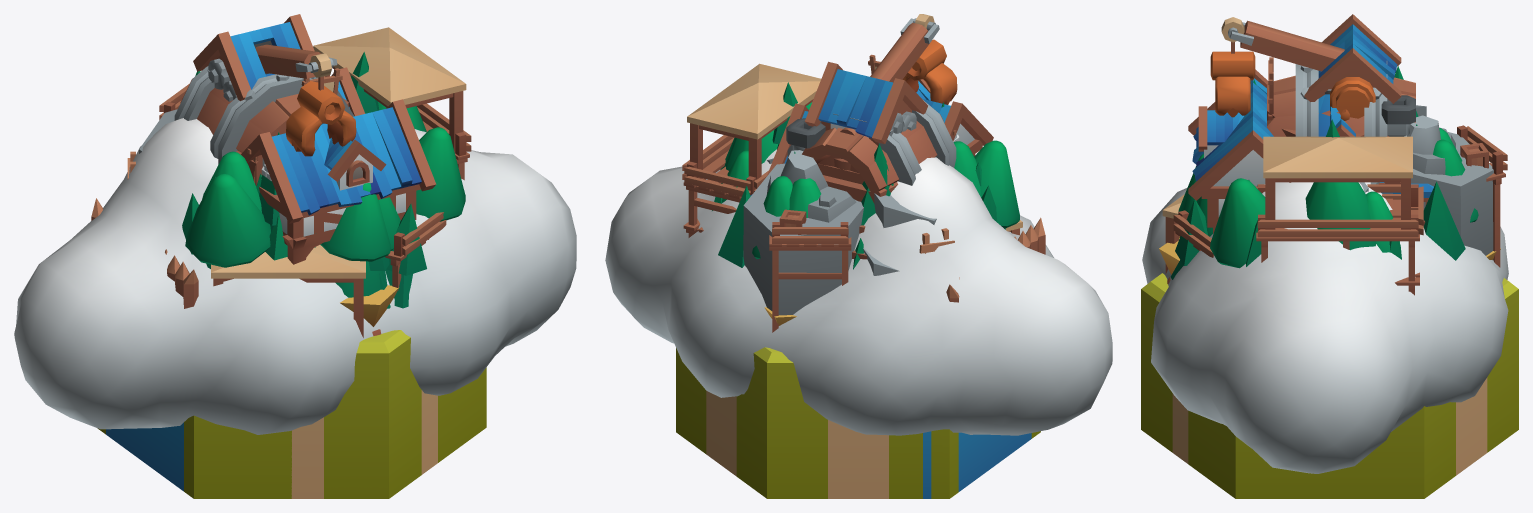
File: hex.glb
3 views of the same model, side by side, from view 1: azimuth 30°, elevation 25°; view 2: azimuth 150°, elevation 25°; view 3: azimuth 270°, elevation 25° (orthographic). The views are drawn at different scales.
Visible parts, largest first — view 1: cloud_big, building_watermill_blue, building_scaffolding, trees_B_large, hex_river_B, hex_road_G, building_lumbermill_top_blue, building_tavern_blue, hex_road_D, hex_river_C, hex_river_A, trees_A_large (+6 smaller); view 2: cloud_big, building_scaffolding, hex_road_C, building_mine_blue, building_lumbermill_top_blue, building_tavern_blue, hex_road_B, trees_B_large, hex_road_E, hex_river_B, trees_B_medium, hex_road_H (+8 smaller); view 3: cloud_big, building_scaffolding, building_lumbermill_top_blue, hex_river_B, hex_road_B, building_watermill_blue, building_mine_blue, building_tavern_blue, trees_B_large, hex_road_D, hex_road_E, trees_B_medium (+9 smaller).
Boxes of the visible parts, x1,y1,x2,y2 form: cloud_big: [14, 118, 576, 434]; building_watermill_blue: [241, 99, 436, 264]; building_scaffolding: [127, 27, 471, 337]; trees_B_large: [185, 127, 465, 297]; hex_river_B: [97, 330, 398, 498]; hex_road_G: [291, 342, 388, 498]; building_lumbermill_top_blue: [193, 14, 356, 156]; building_tavern_blue: [174, 66, 354, 185]; hex_road_D: [385, 330, 437, 498]; hex_river_C: [360, 330, 486, 462]; hex_river_A: [438, 368, 486, 462]; trees_A_large: [182, 193, 426, 308]; cloud_big: [605, 149, 1112, 435]; building_scaffolding: [682, 63, 1022, 332]; hex_road_C: [767, 352, 922, 498]; building_mine_blue: [743, 150, 936, 315]; building_lumbermill_top_blue: [804, 14, 957, 170]; building_tavern_blue: [787, 100, 956, 196]; hex_road_B: [729, 347, 771, 498]; trees_B_large: [722, 102, 1019, 229]; hex_road_E: [676, 348, 736, 475]; hex_river_B: [764, 350, 1040, 498]; trees_B_medium: [721, 130, 981, 259]; hex_road_H: [767, 363, 922, 498]; cloud_big: [1142, 182, 1508, 473]; building_scaffolding: [1162, 125, 1507, 295]; building_lumbermill_top_blue: [1210, 14, 1401, 120]; hex_river_B: [1141, 275, 1518, 498]; hex_road_B: [1188, 282, 1518, 498]; building_watermill_blue: [1188, 69, 1290, 233]; building_mine_blue: [1359, 105, 1493, 260]; building_tavern_blue: [1267, 61, 1415, 209]; trees_B_large: [1178, 128, 1462, 268]; hex_road_D: [1141, 282, 1188, 463]; hex_road_E: [1424, 379, 1486, 498]; trees_B_medium: [1197, 139, 1478, 250].
Size of the model in its own units: 3.61 by 2.7 by 2.31.
Materials: 1 (1 with a texture image).
